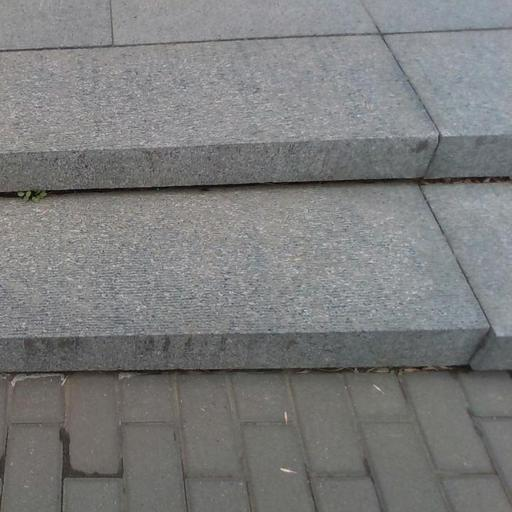stairs: (0, 0, 511, 370)
